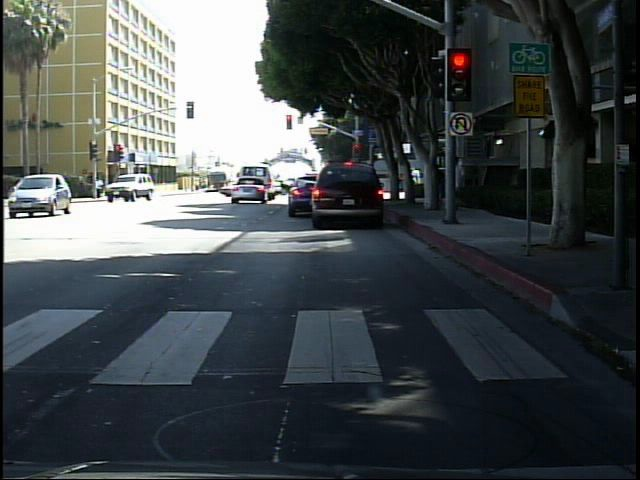person: (451, 153, 467, 221), (94, 175, 105, 199)
